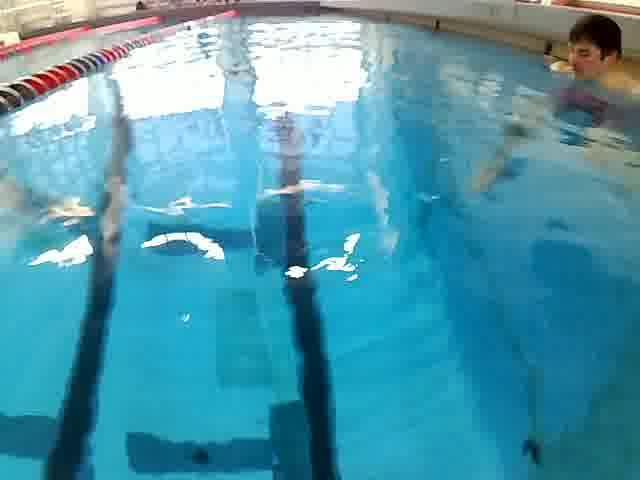Bottle: (538, 49, 574, 81)
